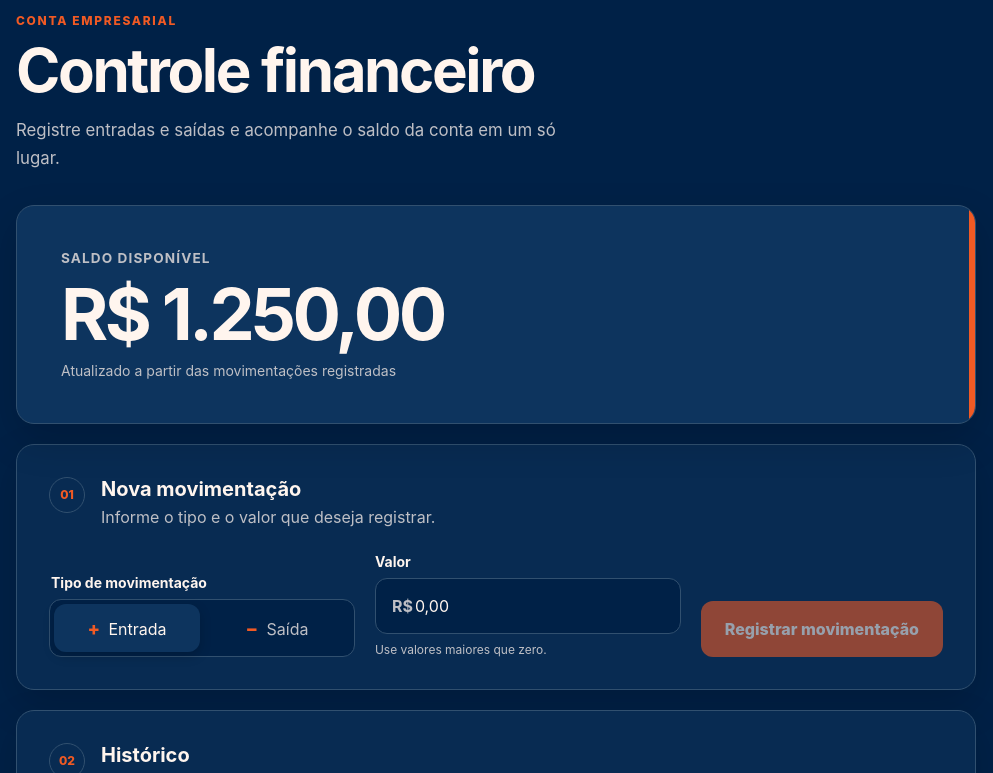
Test: App › formats typed digits as BRL cents with thousands separators
The image size is (993, 773).
In the field labelled "Valor": (546, 606) [413,595,680,617], type "1"
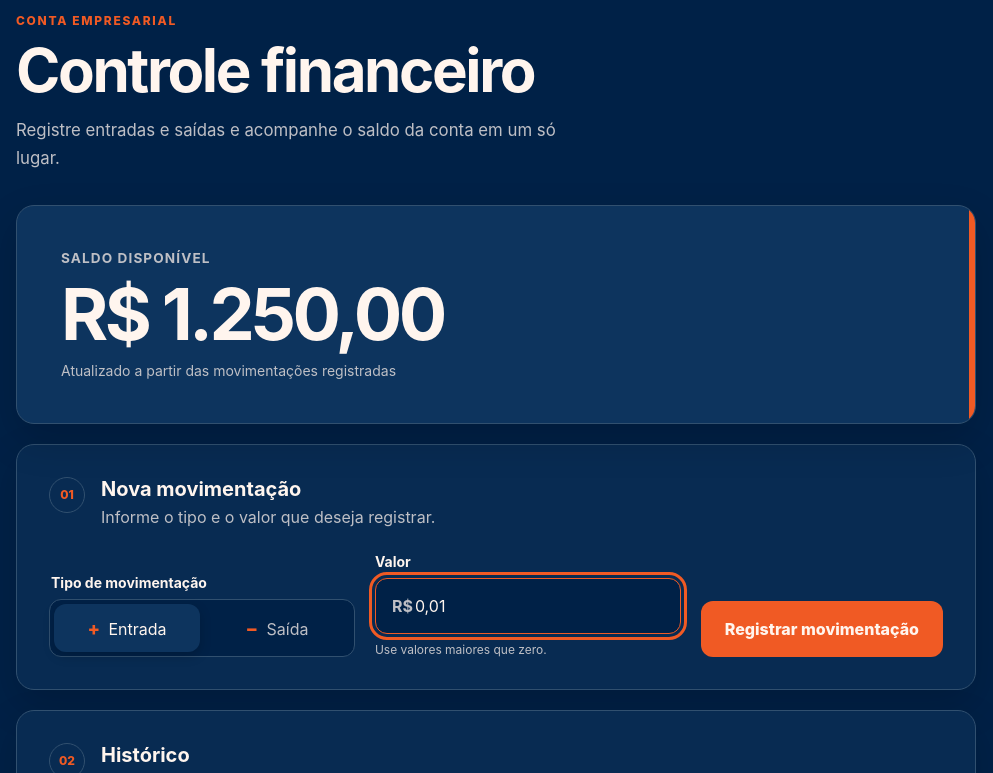
Expected: the field labelled "Valor" holds "0,01"
In the field labelled "Valor": (546, 606) [413,595,680,617], type "2345"
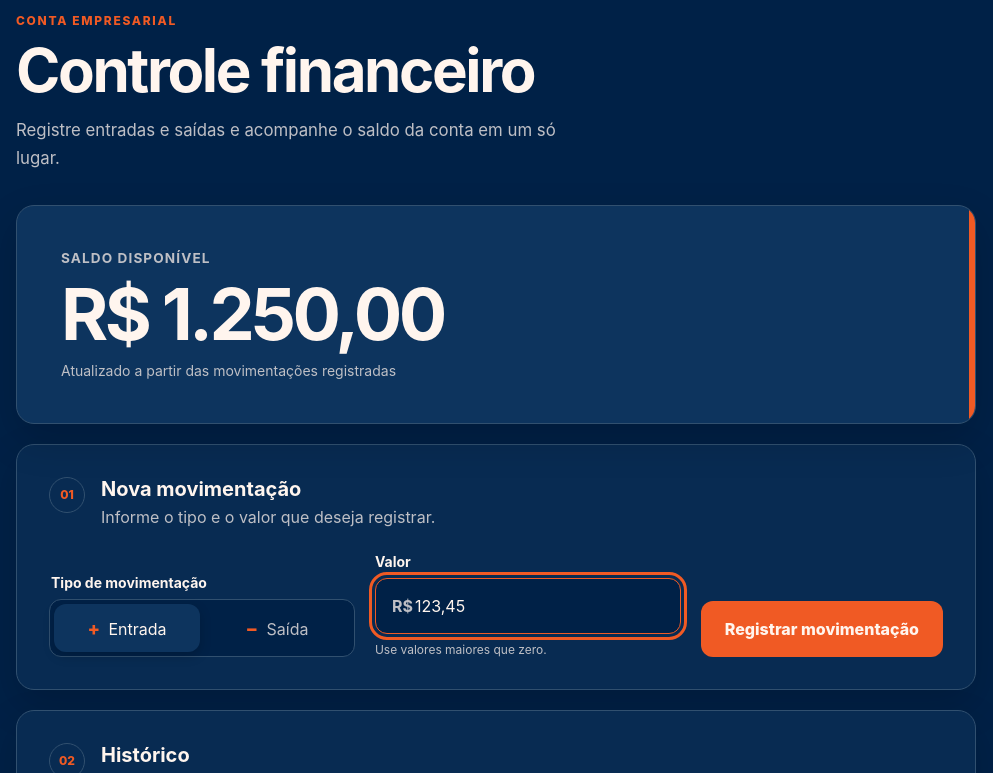
Expected: the field labelled "Valor" holds "123,45"
In the field labelled "Valor": (546, 606) [413,595,680,617], type "6"
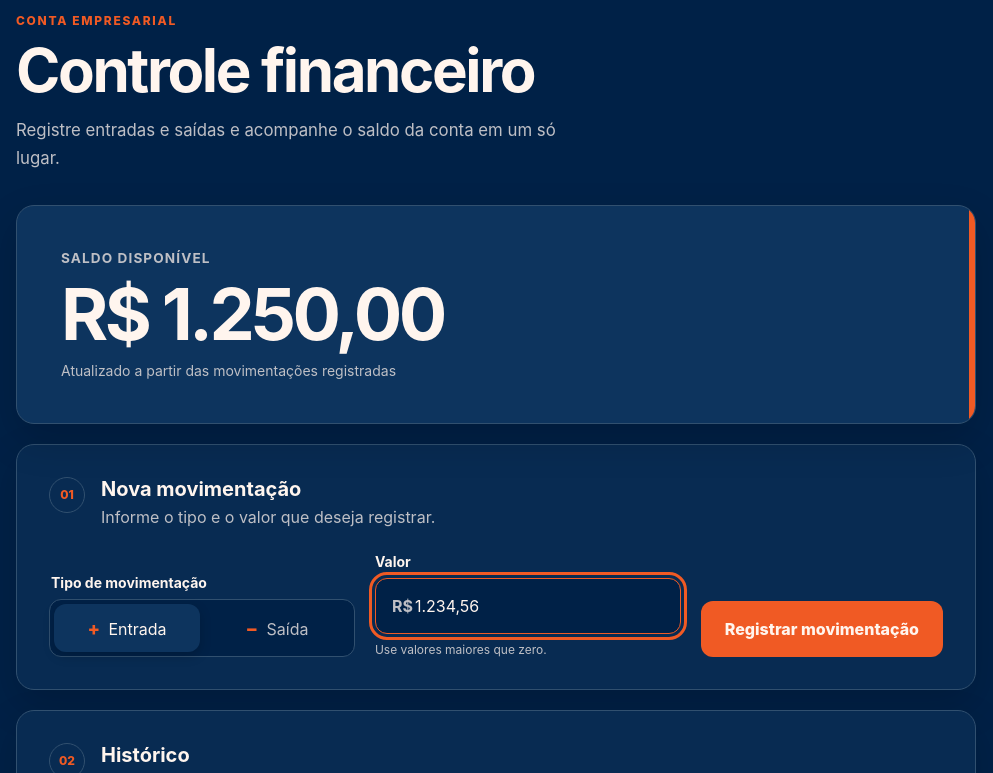
Expected: the field labelled "Valor" holds "1.234,56", [413,595,680,617]
